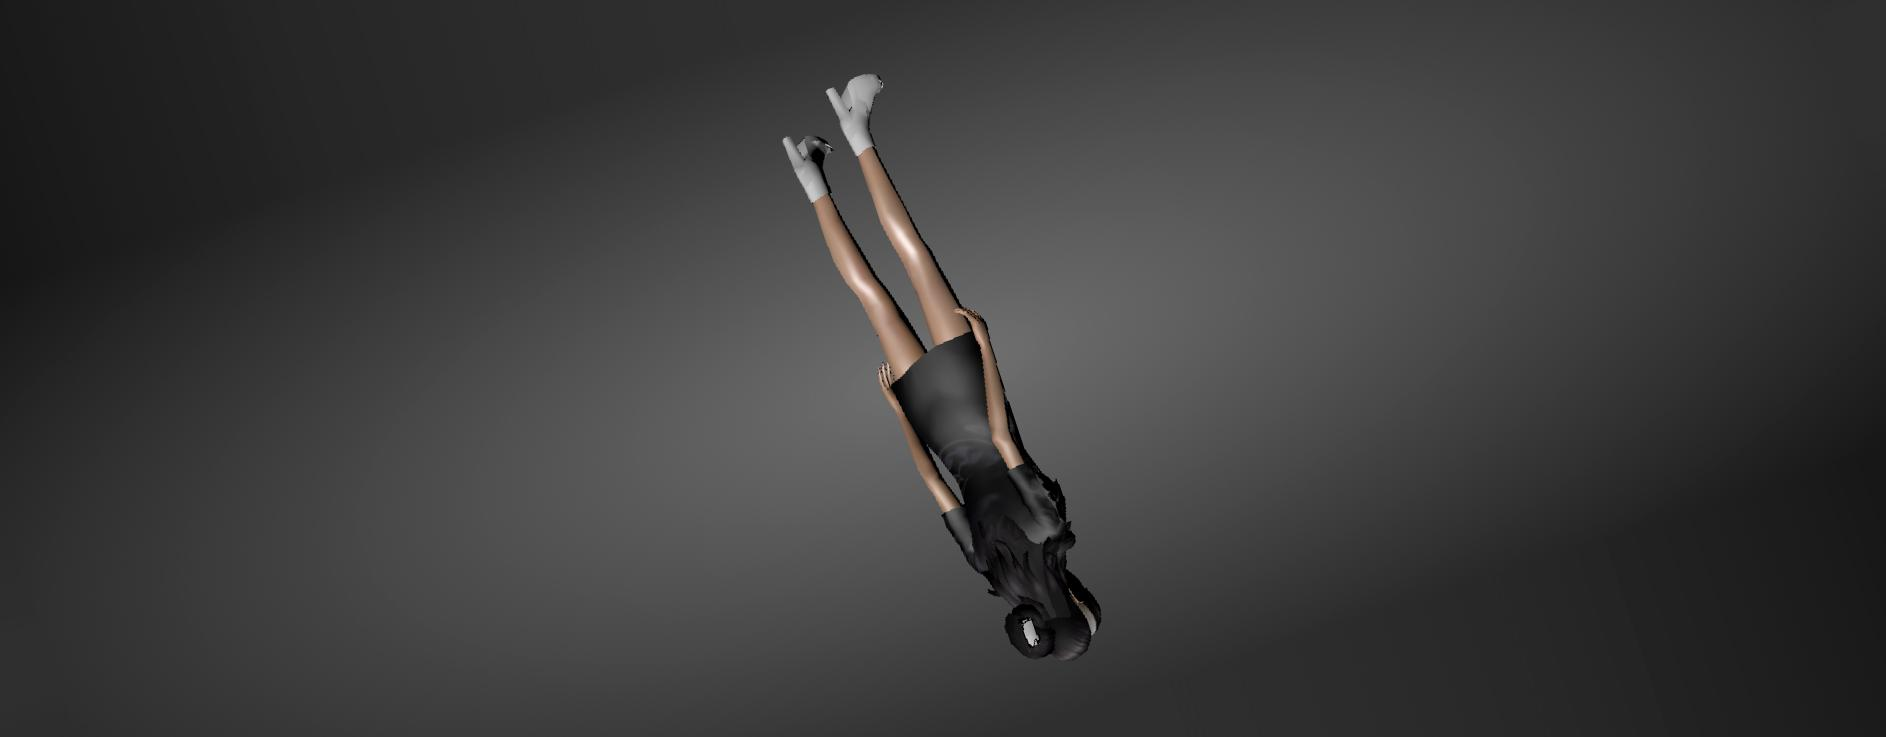clip: (1018, 616, 1044, 647)
